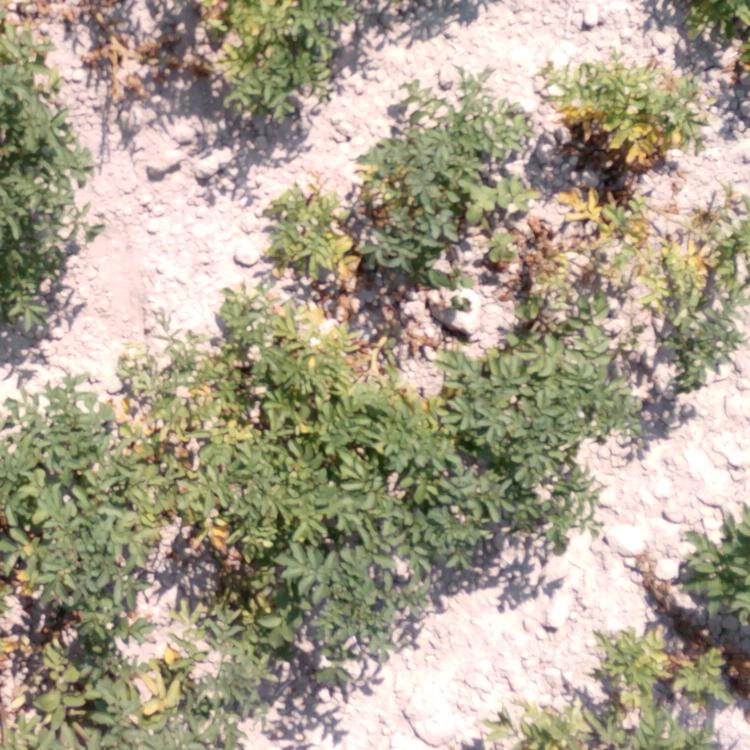healthy: (1, 405, 144, 568), (304, 447, 442, 603), (6, 52, 55, 306), (409, 84, 495, 220), (480, 361, 573, 458), (703, 533, 749, 613)
stressed: (9, 631, 192, 746), (236, 302, 402, 426), (169, 435, 271, 603), (202, 1, 338, 126), (552, 62, 679, 181), (572, 641, 705, 744), (270, 198, 401, 288), (509, 222, 610, 321), (644, 207, 711, 352)
